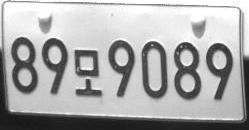0: (140, 39, 167, 99)
8: (172, 41, 202, 100), (10, 36, 39, 94)
9: (40, 37, 69, 95), (205, 42, 234, 100), (107, 39, 135, 97)
모: (73, 49, 102, 96)
